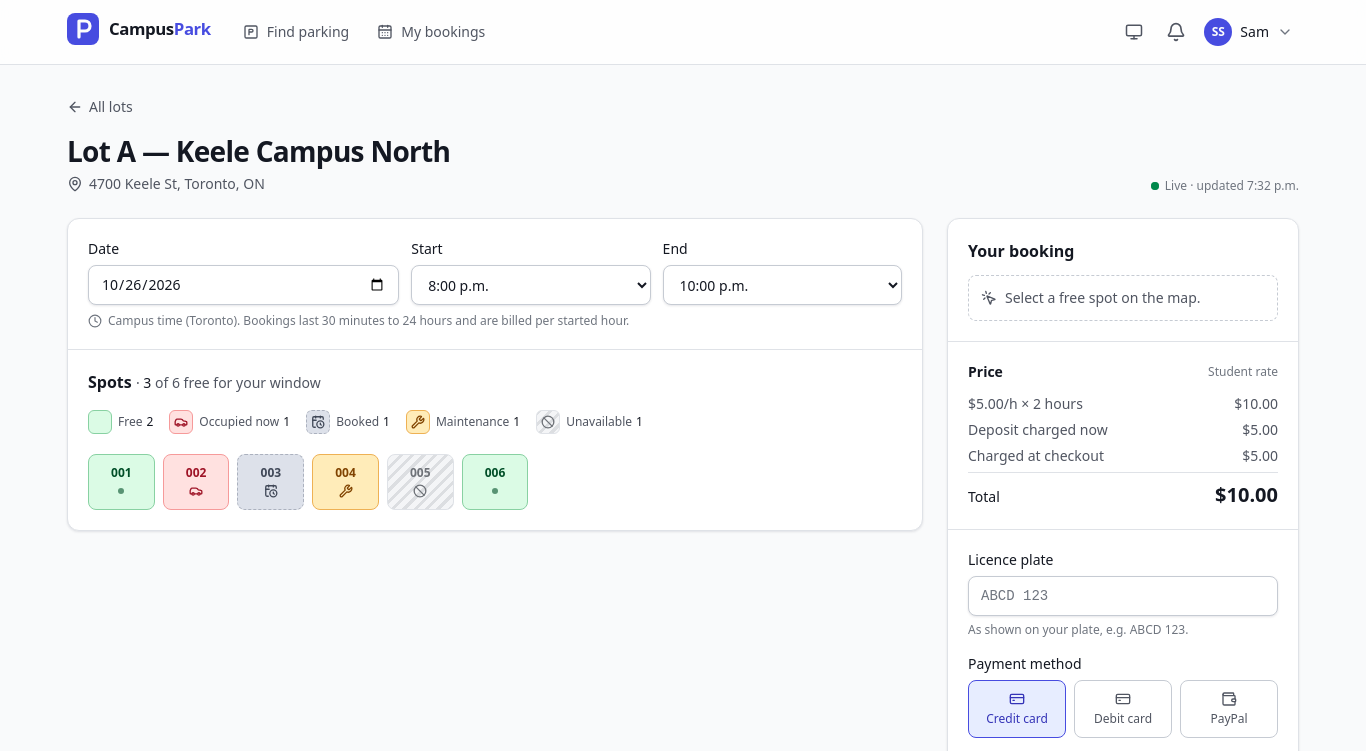
it: booking form › maps a 422 business-rule code to plain language
This screenshot has width=1366, height=751.
Click the radio button named "Spot A-001, Free" at (121, 482), box [88,454,155,510]
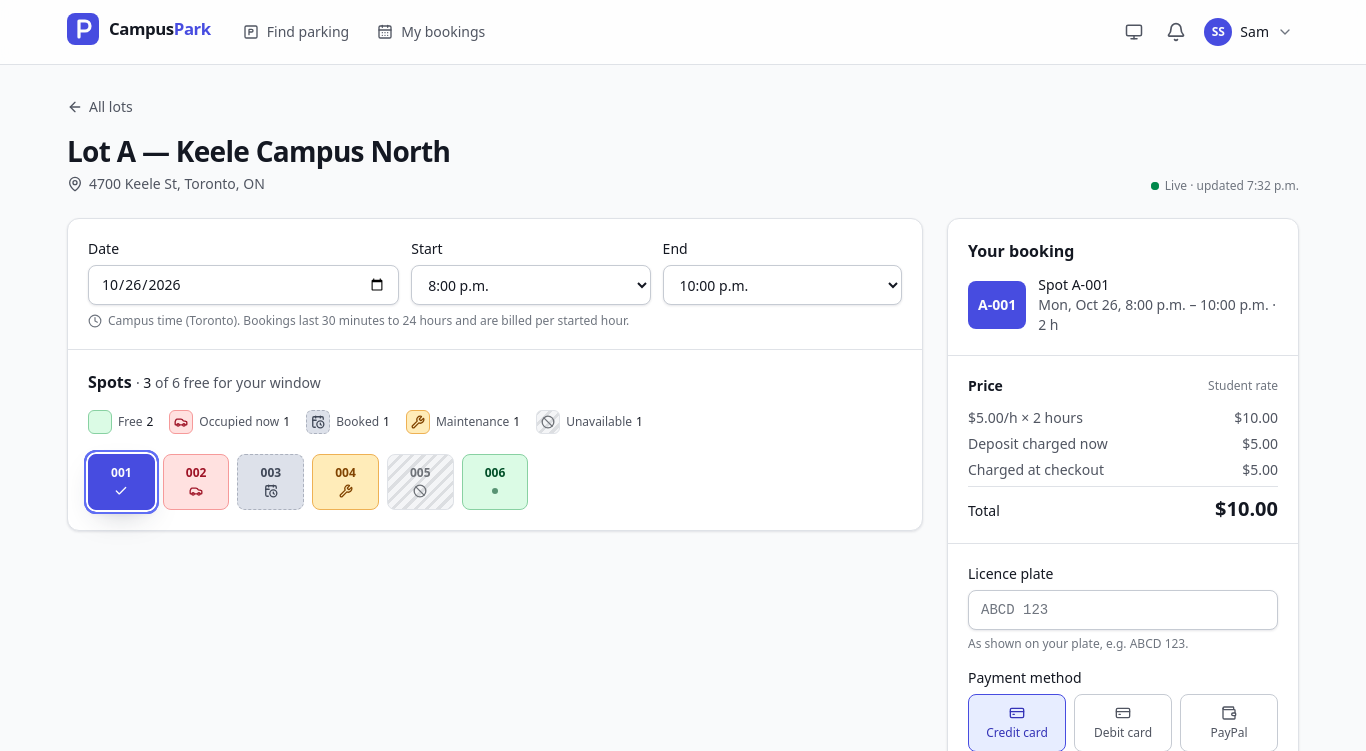
Type "abcd 123" into the field labelled "Licence plate" at (1123, 610), box [968,590,1278,630]
(page scrolled)
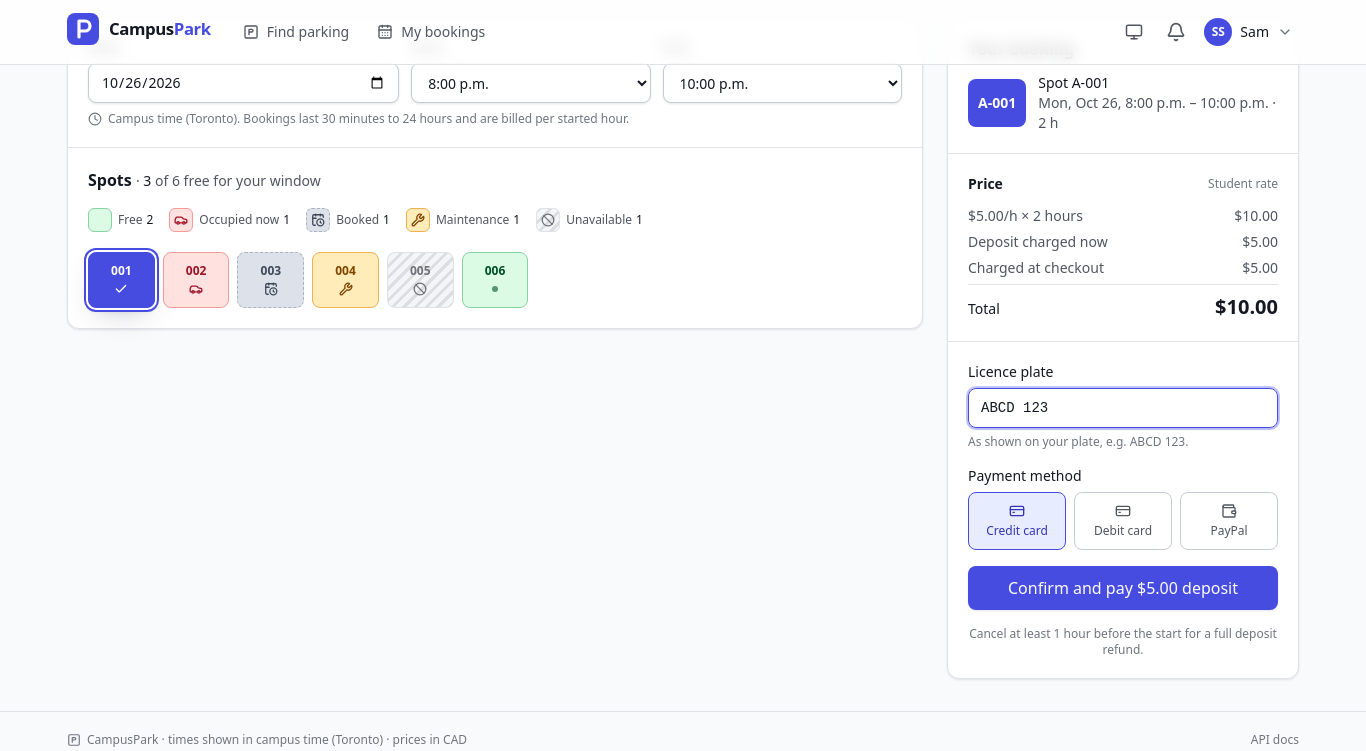
Click the button "Confirm and pay $5.00 deposit" at (1123, 588), box [968,566,1278,610]
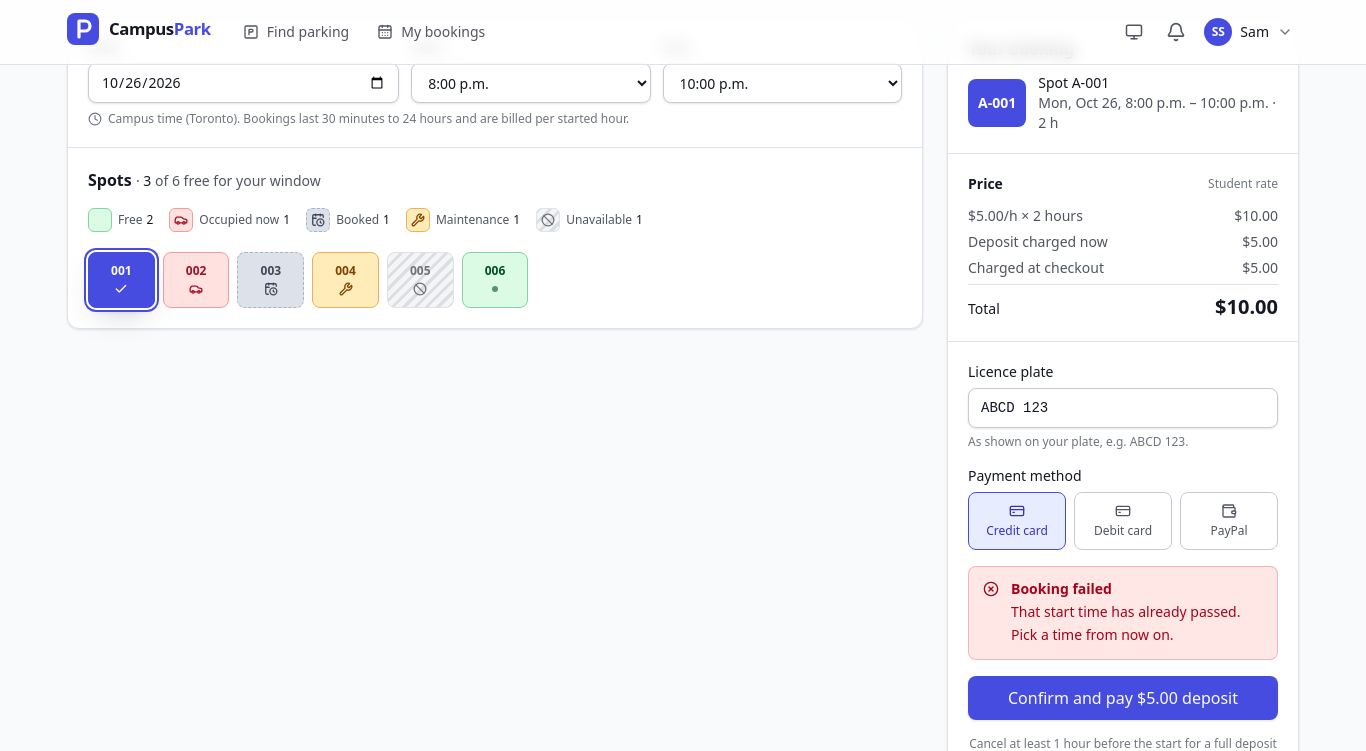
Check: the text "That start time has already passed. Pick a time from now on." is shown, box [1011,601,1263,647]
